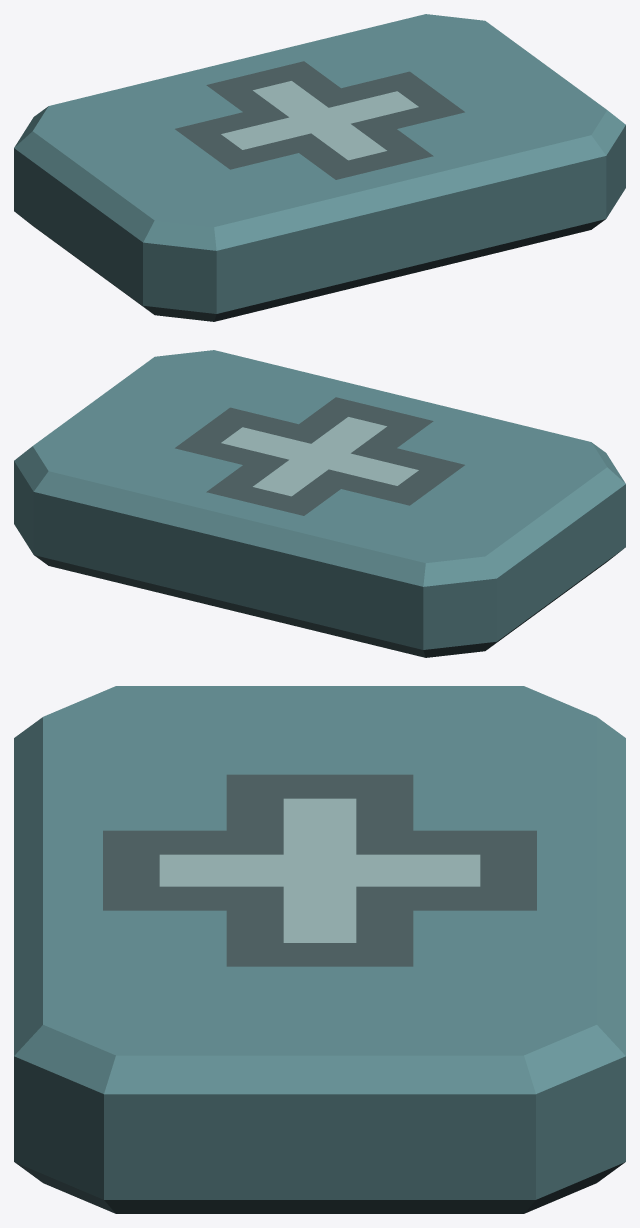
File: item_medicine_industrial_a.obj
3 renders of one model, top to bottom at view 1: azimuth 30°, elevation 25°; view 2: azimuth 150°, elevation 25°; view 3: azimuth 270°, elevation 25°, orthographic. The views are drawn at different scales.
Size of the model in its own units: 0.736 by 0.138 by 0.483.
